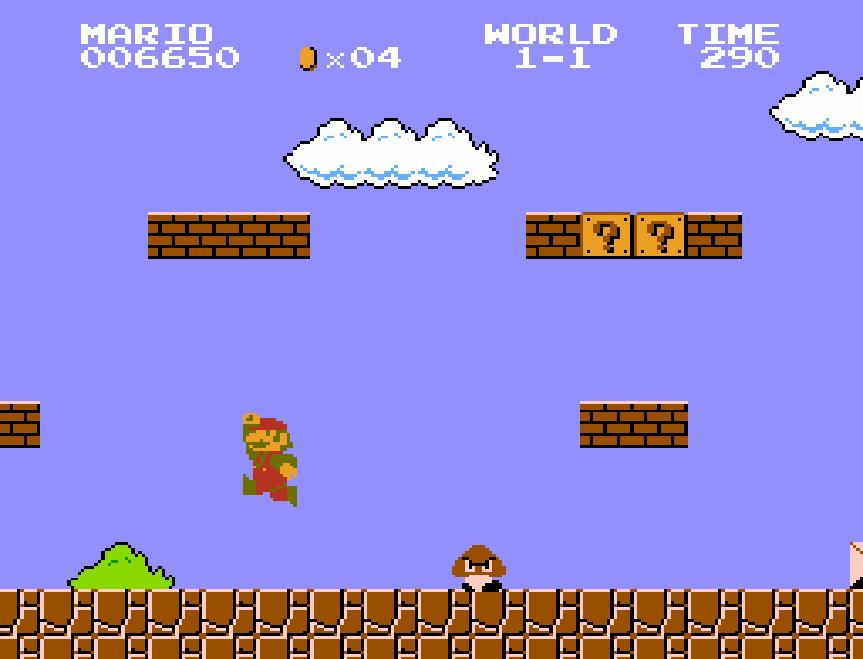big_mario: (240, 410, 298, 508)
